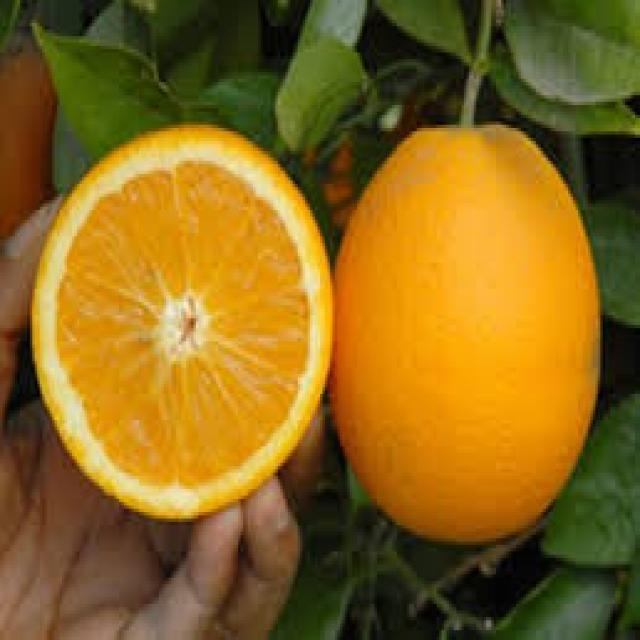orange: (32, 125, 335, 522), (337, 122, 603, 548)
